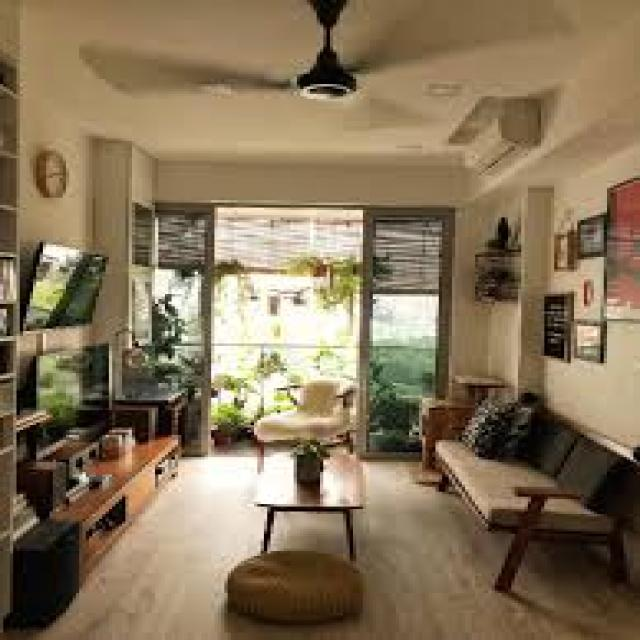Chair: (248, 364, 358, 454)
Sofa: (429, 403, 640, 603)
Table: (252, 445, 377, 562)
tv: (22, 237, 110, 332)
